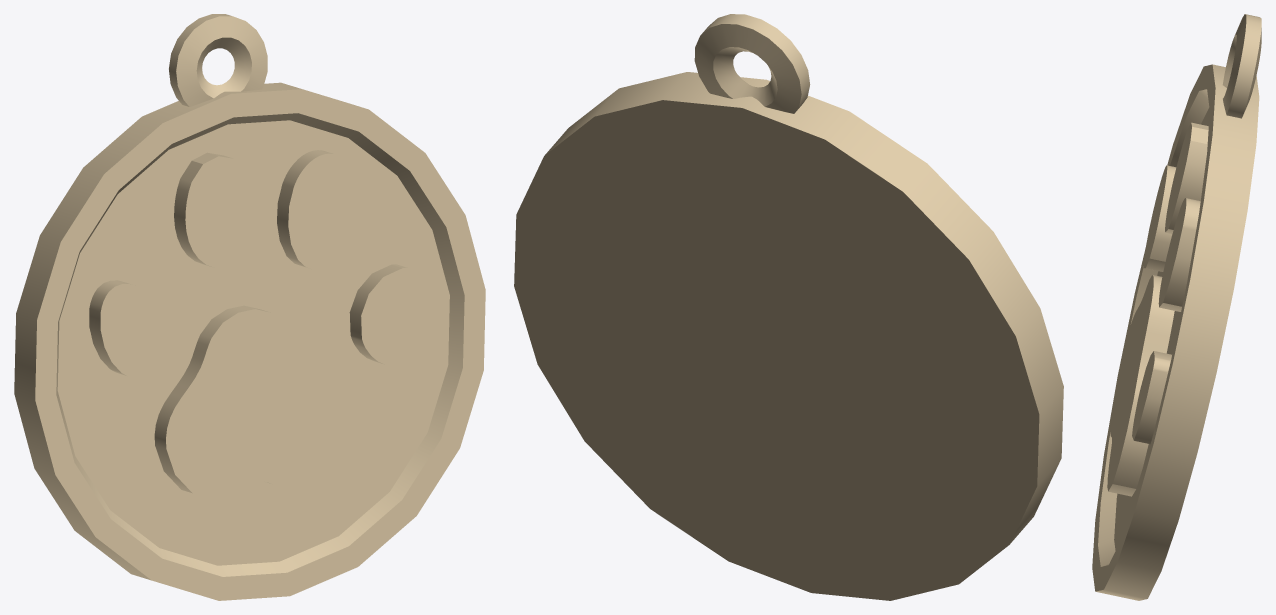
The model's file is Anim_Medalla.fbx.
3 renders of one model, left to right at view 1: azimuth 30°, elevation 25°; view 2: azimuth 150°, elevation 25°; view 3: azimuth 270°, elevation 25°, orthographic. The views are drawn at different scales.
Visible parts, largest first — view 1: pCylinder4, svgMesh1, pTorus1; view 2: pCylinder4, pTorus1; view 3: pCylinder4, svgMesh1, pTorus1.
Boxes of the visible parts, box(x1,y1,x2,y2) form: pCylinder4: box(14, 82, 485, 600); svgMesh1: box(89, 150, 425, 500); pTorus1: box(169, 14, 267, 106); pCylinder4: box(514, 72, 1063, 600); pTorus1: box(694, 14, 810, 113); pCylinder4: box(1092, 64, 1259, 600); svgMesh1: box(1107, 122, 1208, 496); pTorus1: box(1222, 14, 1261, 118).
Size of the model in its own units: 2.88 by 3.26 by 0.8974.
